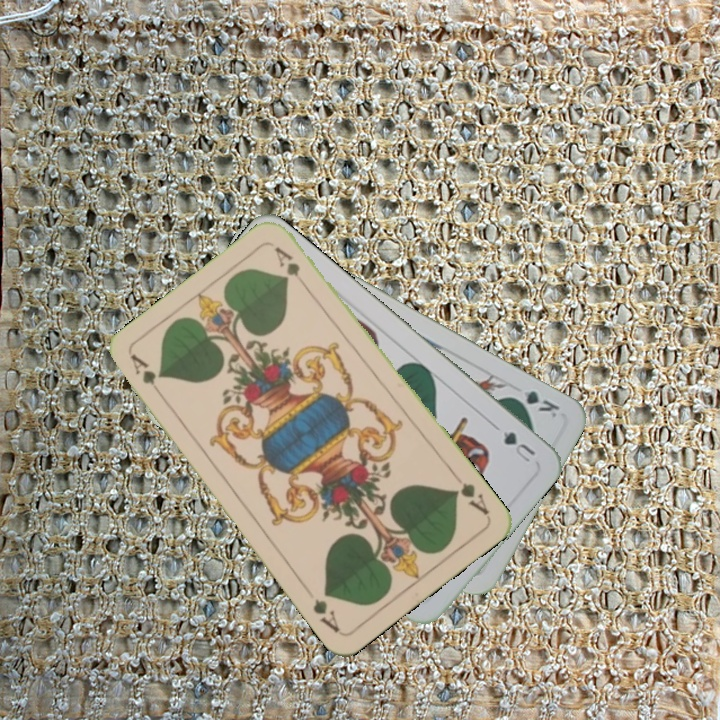GA: (127, 350, 167, 403), (448, 470, 492, 518)
GK: (506, 386, 563, 420)
GU: (499, 427, 538, 467)
